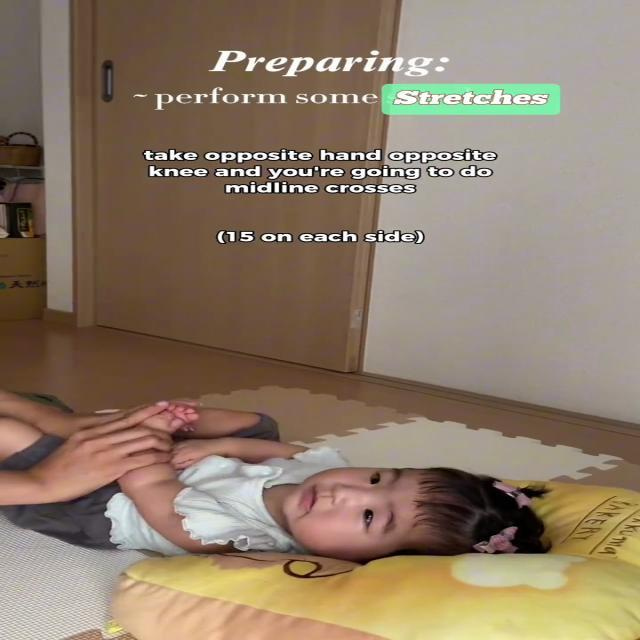baby: (0, 378, 567, 588)
